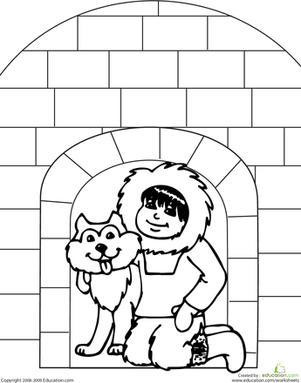dog: (63, 210, 143, 355)
person: (123, 168, 247, 376)
